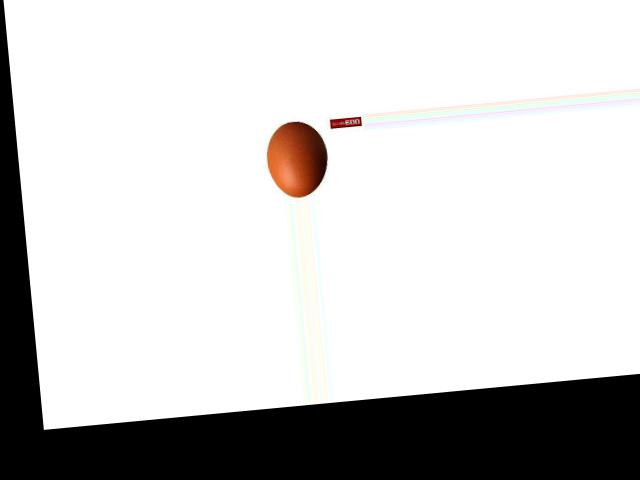egg: (263, 119, 329, 198)
